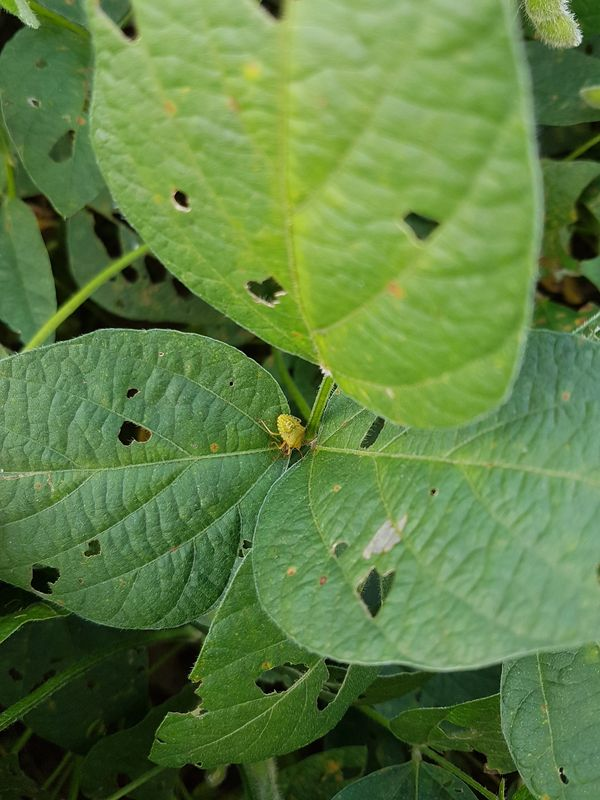Euschistus_heros_ninfa: (258, 406, 321, 464)
